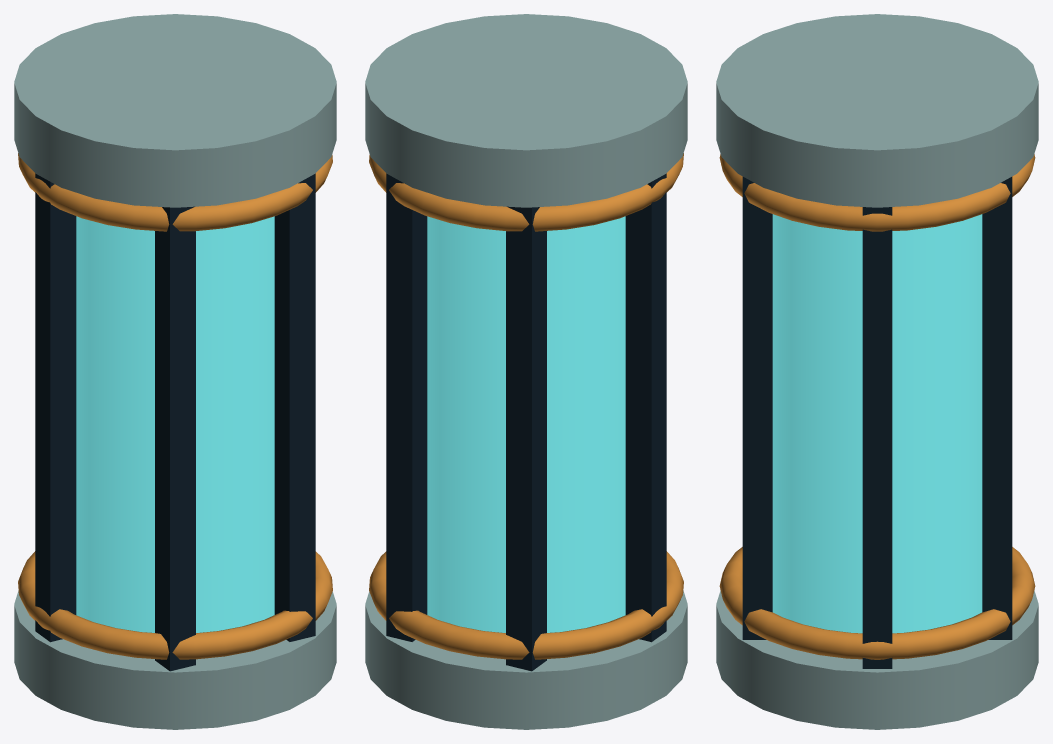
Rendered from power-cell.glb.
3 renders of one model, left to right at view 1: azimuth 30°, elevation 25°; view 2: azimuth 150°, elevation 25°; view 3: azimuth 270°, elevation 25°, orthographic.
Visible parts, largest first — view 1: Brushed titanium, Energy cell luminous glass, Inset graphite, Amber enamel; view 2: Brushed titanium, Energy cell luminous glass, Inset graphite, Amber enamel; view 3: Brushed titanium, Energy cell luminous glass, Inset graphite, Amber enamel.
Boxes of the visible parts, <box> form: Brushed titanium: <box>14,14,336,729</box>; Energy cell luminous glass: <box>76,216,274,632</box>; Inset graphite: <box>35,173,315,671</box>; Amber enamel: <box>18,153,332,659</box>; Brushed titanium: <box>365,14,687,729</box>; Energy cell luminous glass: <box>427,216,625,632</box>; Inset graphite: <box>386,173,666,671</box>; Amber enamel: <box>369,153,683,659</box>; Brushed titanium: <box>716,14,1038,729</box>; Energy cell luminous glass: <box>772,214,982,633</box>; Inset graphite: <box>742,176,1012,668</box>; Amber enamel: <box>719,154,1035,659</box>.
Size of the model in its own units: 0.28 by 0.555 by 0.28.
